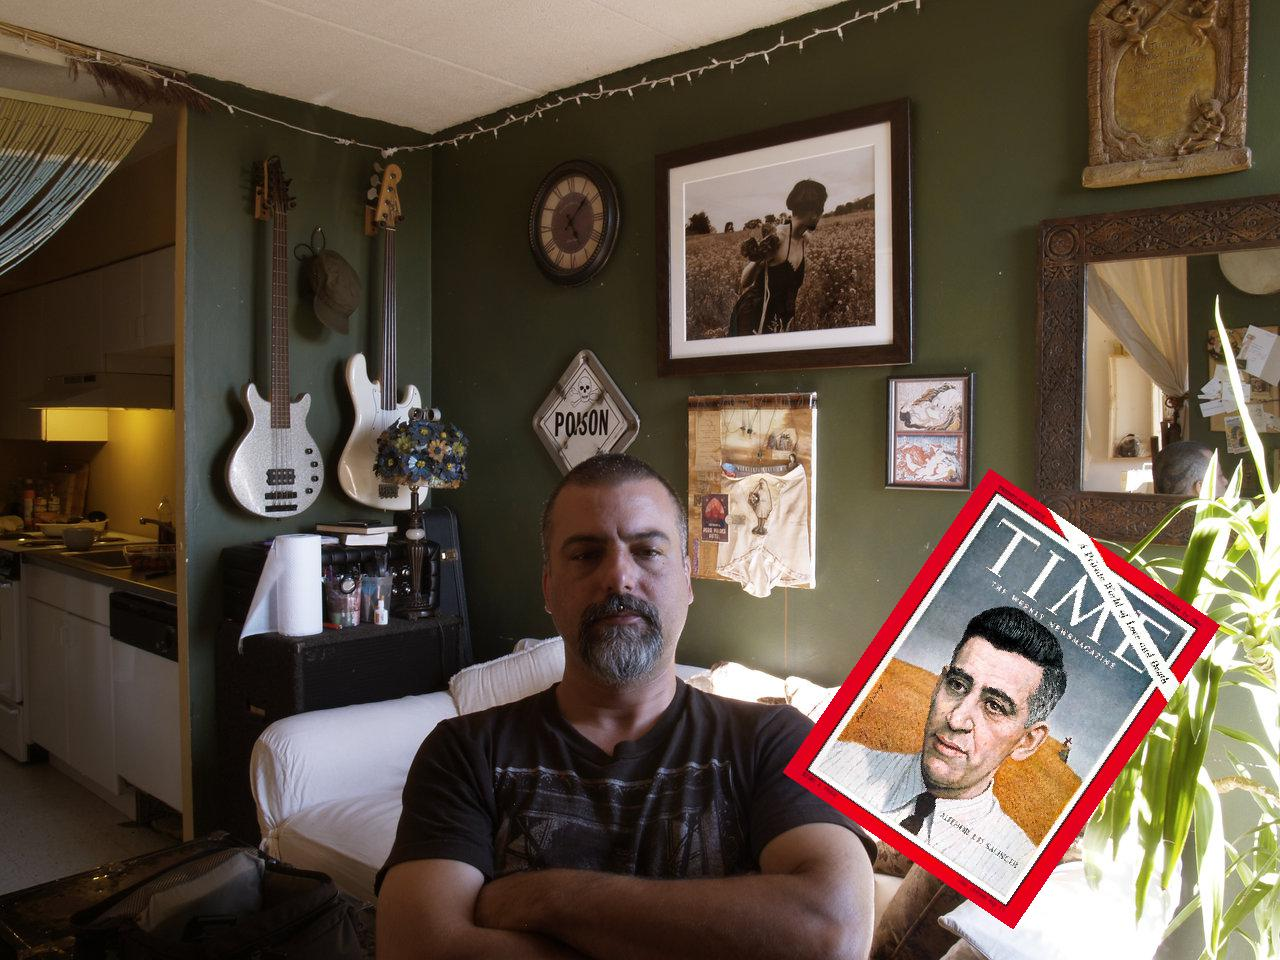times: (774, 468, 1219, 923)
